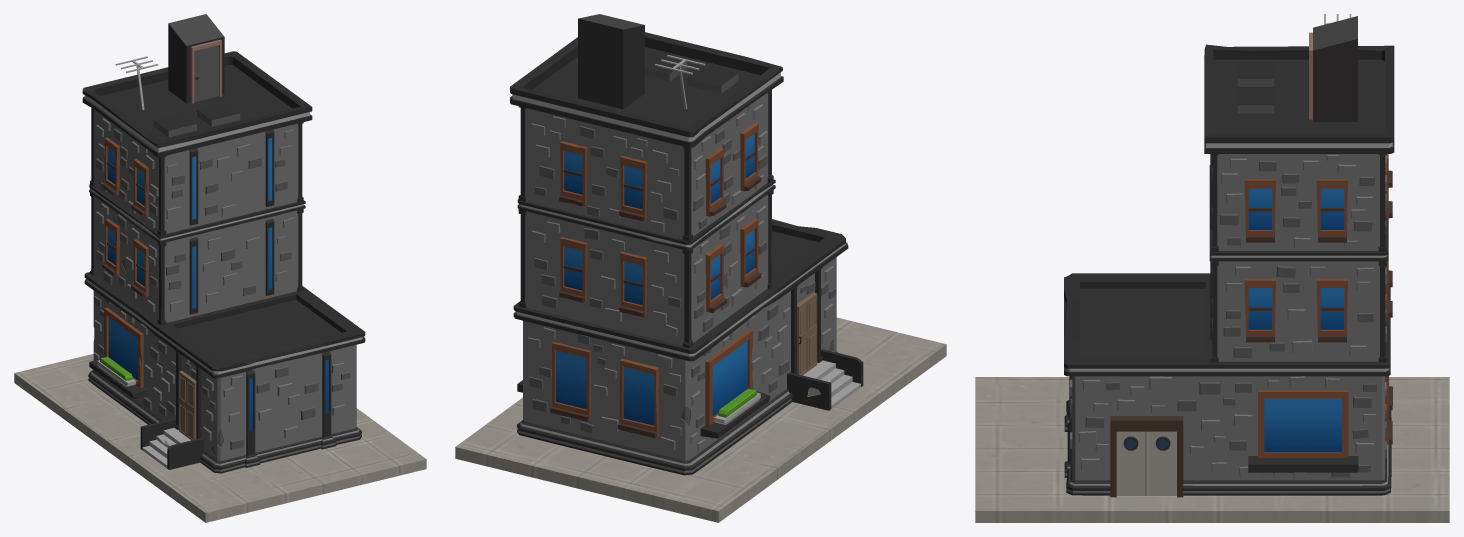
The model's file is House_11.fbx.
3 renders of one model, left to right at view 1: azimuth 30°, elevation 25°; view 2: azimuth 150°, elevation 25°; view 3: azimuth 270°, elevation 25°, orthographic. The views are drawn at different scales.
Parts seen in each view (by area): view 1: House_11; view 2: House_11; view 3: House_11.
Part boxes in pixels (x1,y1,x2,y2): House_11: [14, 14, 426, 522]; House_11: [455, 14, 946, 522]; House_11: [975, 14, 1449, 522].
Size of the model in its own units: 1200 by 1858 by 1800.
